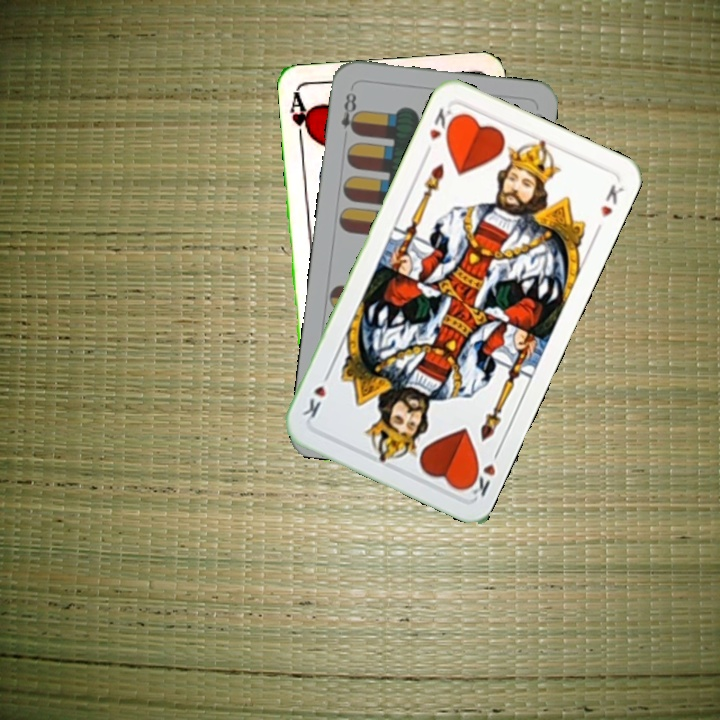E8: (337, 88, 362, 137)
HA: (286, 89, 315, 148)
HK: (462, 444, 503, 500), (420, 103, 459, 158)
